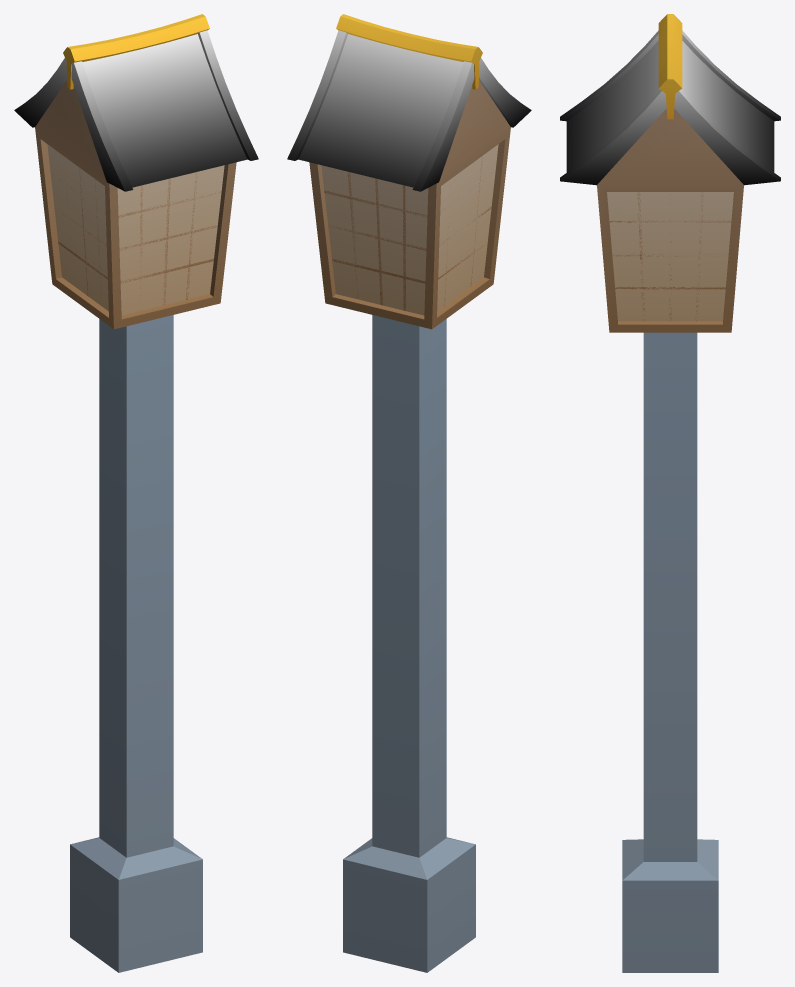
Rendered from SM_LampPost.fbx.
3 views of the same model, side by side, from view 1: azimuth 30°, elevation 25°; view 2: azimuth 150°, elevation 25°; view 3: azimuth 270°, elevation 25° (orthographic).
Parts seen in each view (by area): view 1: Cube.015; view 2: Cube.015; view 3: Cube.015.
Boxes of the visible parts, x1,y1,x2,y2 form: Cube.015: (14, 14, 258, 972); Cube.015: (287, 14, 531, 972); Cube.015: (560, 14, 780, 972).
Bounding box in the file's own units: 26.55 × 171 × 37.87.
